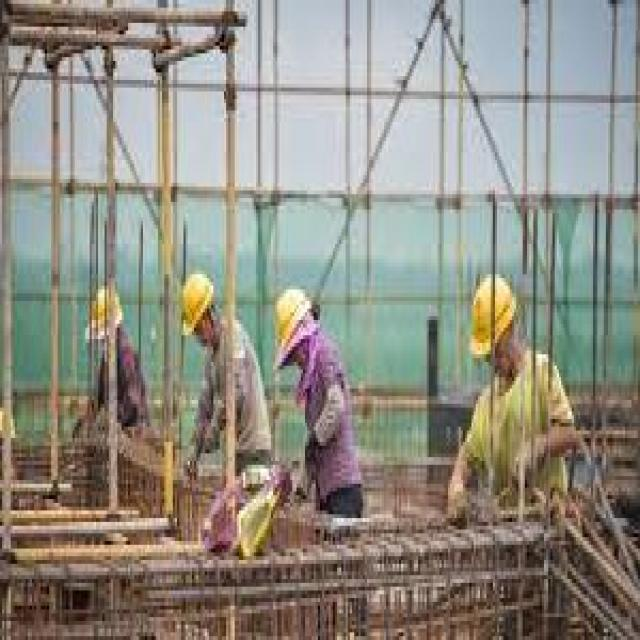Reflective-Jacket: (450, 354, 587, 583), (290, 336, 367, 510), (194, 320, 275, 476)
Safety-Helmet: (459, 259, 533, 373), (265, 274, 324, 358), (173, 259, 222, 343), (79, 270, 128, 350)
